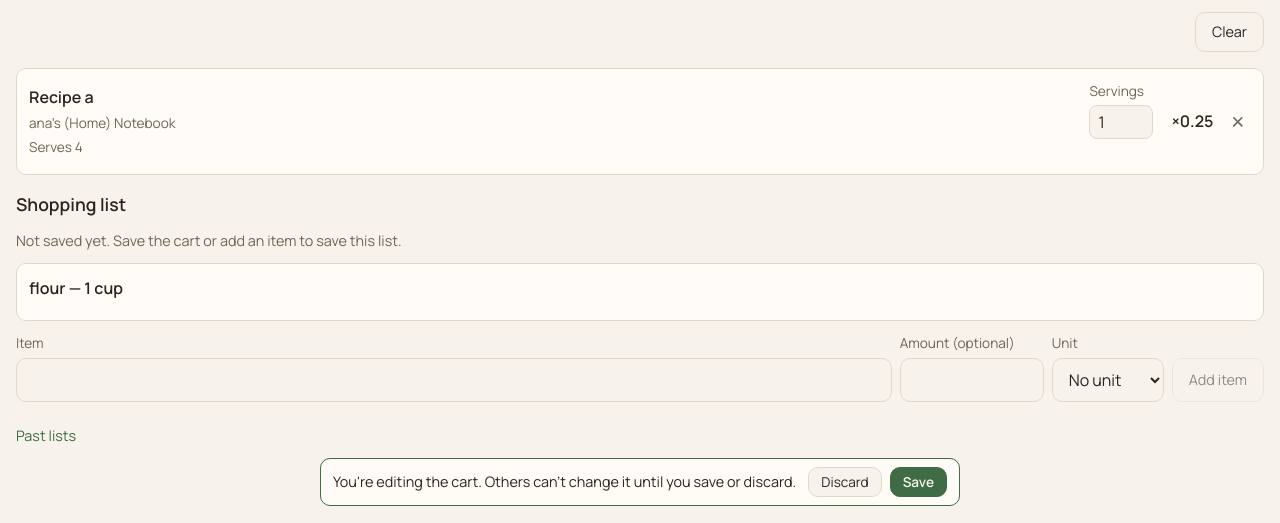
Test: CartScreen › says the changes were discarded when the lock was lost
Click the button "Save".
click(918, 482)  # box [890, 467, 947, 497]
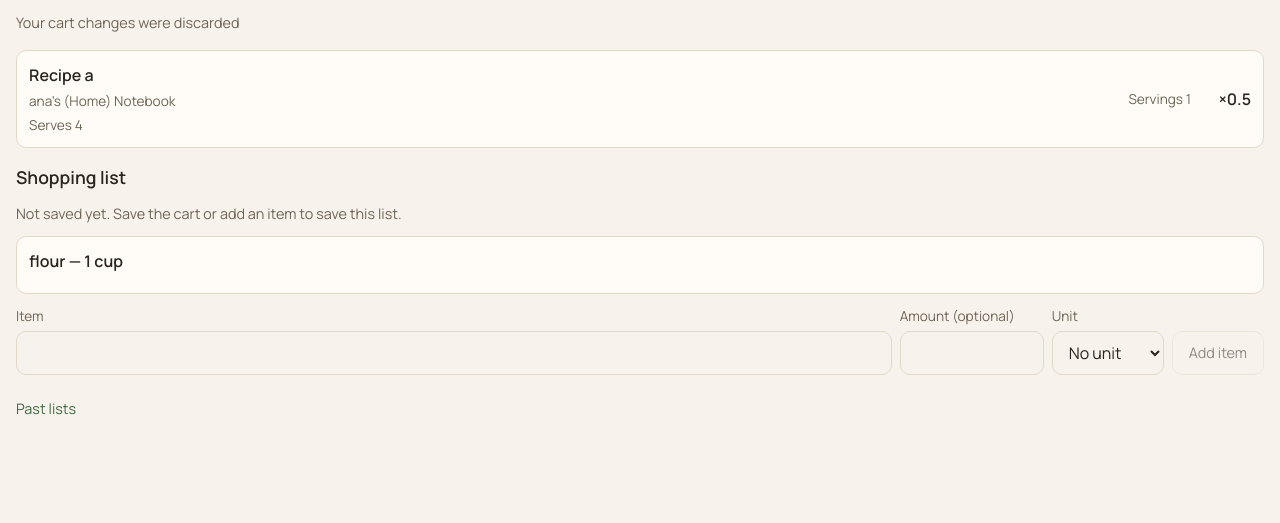
Expected: the text "Your cart changes were discarded" is shown, [16, 13, 240, 32]
